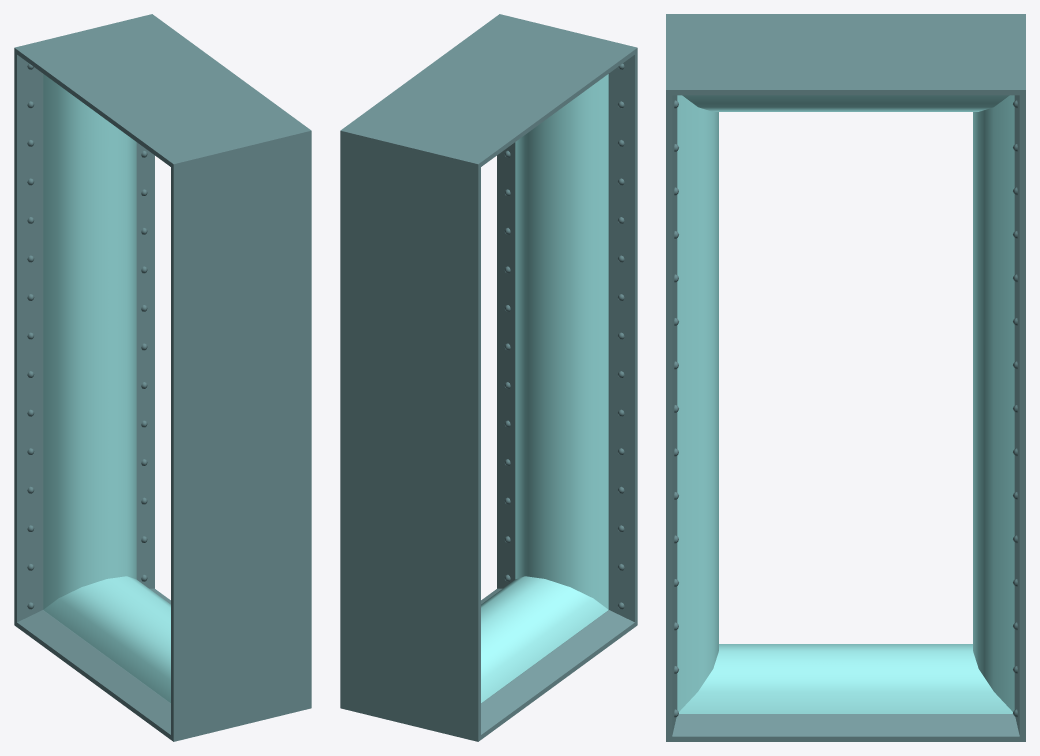
Rendered from EM_012_airlock_entrance.glb.
3 views of the same model, side by side, from view 1: azimuth 30°, elevation 25°; view 2: azimuth 150°, elevation 25°; view 3: azimuth 270°, elevation 25° (orthographic). The views are drawn at different scales.
Visible parts, largest first — view 1: structure, screws; view 2: structure, screws; view 3: structure, screws.
Part boxes in pixels (x1,y1,x2,y2): structure: (14, 14, 311, 741); screws: (27, 63, 147, 609); structure: (340, 14, 637, 741); screws: (504, 63, 624, 609); structure: (666, 14, 1025, 741); screws: (674, 100, 1017, 717).
Bounding box in the file's own units: 0.75 × 3 × 1.5.
